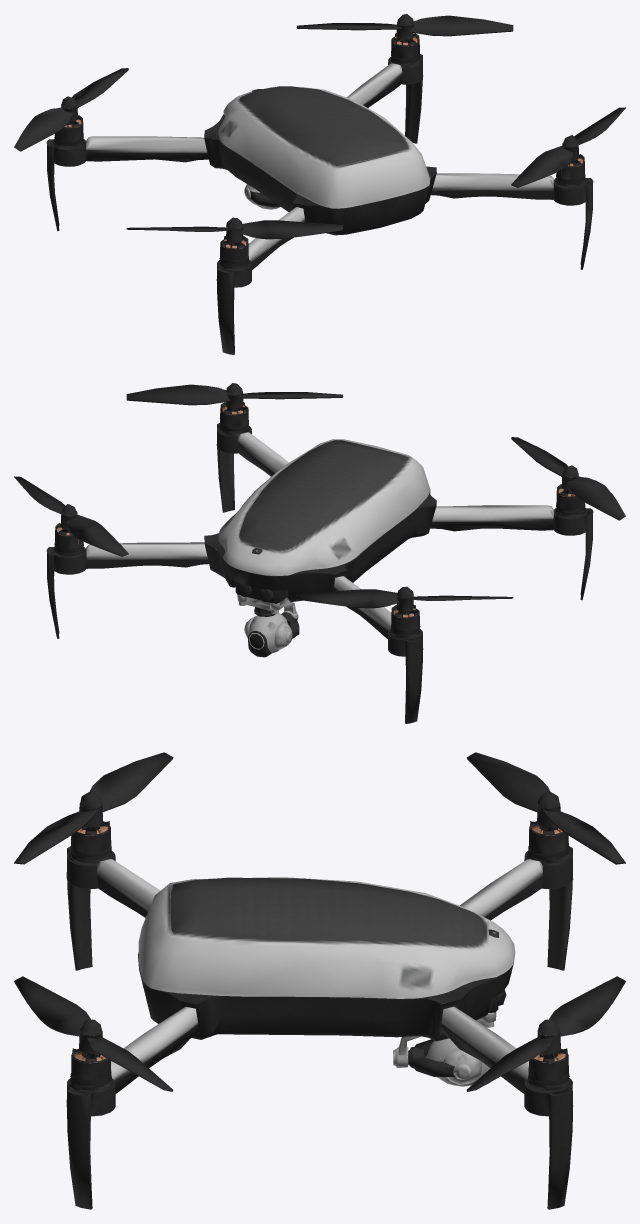
The model's file is drone.glb.
The picture shows the model from 3 angles, top to bottom: view 1: azimuth 30°, elevation 25°; view 2: azimuth 150°, elevation 25°; view 3: azimuth 270°, elevation 25°; orthographic projection. The views are drawn at different scales.
Parts seen in each view (by area): view 1: Object_165, Object_159, Object_204, Object_198, Object_201, Object_195, prop2, prop3, prop1, prop4, Object_231, Object_213 (+2 smaller); view 2: Object_165, Object_159, Object_201, Object_195, Object_204, prop4, Object_198, prop1, prop3, Object_183, prop2, Object_240 (+4 smaller); view 3: Object_165, Object_159, Object_195, Object_198, Object_204, Object_201, prop1, prop3, prop2, prop4, Object_183, Object_213 (+3 smaller).
Part boxes in pixels (bbox=[...]): Object_165: bbox=[218, 86, 430, 208]; Object_159: bbox=[204, 114, 436, 235]; Object_204: bbox=[46, 136, 213, 231]; Object_198: bbox=[431, 173, 593, 269]; Object_201: bbox=[216, 207, 305, 354]; Object_195: bbox=[347, 54, 423, 143]; prop2: bbox=[296, 15, 513, 39]; prop3: bbox=[126, 220, 343, 242]; prop1: bbox=[14, 68, 128, 151]; prop4: bbox=[511, 107, 625, 187]; Object_231: bbox=[219, 236, 249, 268]; Object_213: bbox=[390, 33, 420, 65]; Object_165: bbox=[218, 439, 429, 575]; Object_159: bbox=[204, 489, 436, 603]; Object_201: bbox=[430, 505, 593, 600]; Object_195: bbox=[46, 542, 216, 638]; Object_204: bbox=[334, 573, 423, 723]; prop4: bbox=[126, 384, 343, 408]; Object_198: bbox=[216, 423, 288, 512]; prop1: bbox=[296, 589, 513, 611]; prop3: bbox=[511, 437, 625, 520]; Object_183: bbox=[244, 602, 299, 657]; prop2: bbox=[14, 476, 128, 556]; Object_240: bbox=[390, 605, 420, 637]; Object_165: bbox=[138, 877, 515, 998]; Object_159: bbox=[138, 952, 513, 1041]; Object_195: bbox=[440, 1003, 573, 1209]; Object_198: bbox=[66, 1006, 199, 1209]; Object_204: bbox=[460, 846, 573, 970]; Object_201: bbox=[66, 846, 160, 970]; prop1: bbox=[466, 752, 625, 864]; prop3: bbox=[14, 752, 173, 864]; prop2: bbox=[466, 976, 625, 1091]; prop4: bbox=[14, 976, 173, 1091]; Object_183: bbox=[393, 1036, 490, 1086]; Object_213: bbox=[528, 1048, 569, 1090].
Bounding box in the file's own units: 6.87 × 1.8 × 5.26.
Materials: 77 (77 with a texture image).
